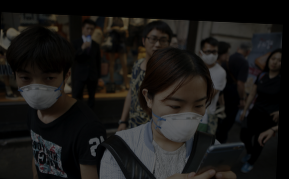with_mask: (149, 92, 205, 143), (14, 66, 62, 109), (199, 47, 218, 64)
without_mask: (143, 31, 168, 56), (267, 54, 280, 72), (79, 24, 94, 38)
